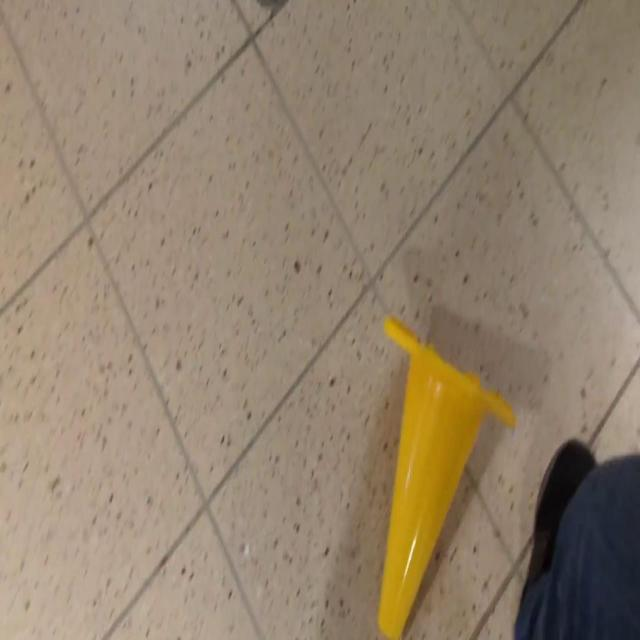frc_cone: (377, 311, 519, 640)
